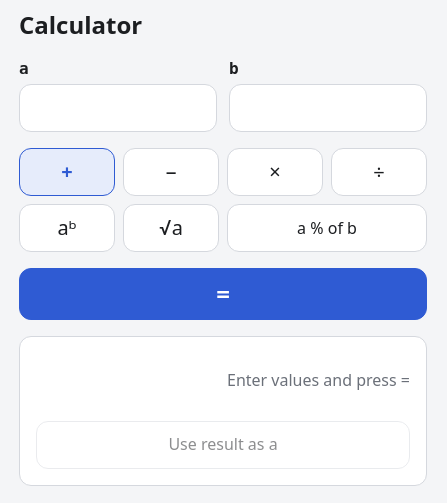
Test case: Calculator › clears the result when a is edited
The image size is (447, 503).
Type "10" into the field labelled "a" at (118,108), box [19,84,217,132]
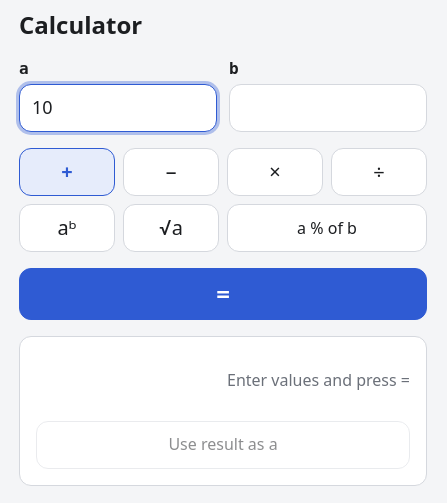
Type "4" into the field labelled "b" at (328,108), box [229,84,427,132]
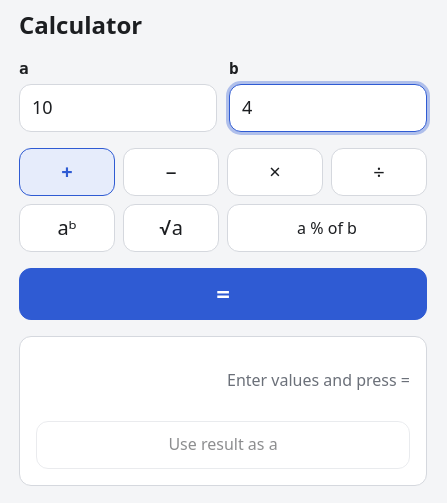
Click the button named "Divide" at (379,172), box [331,148,427,196]
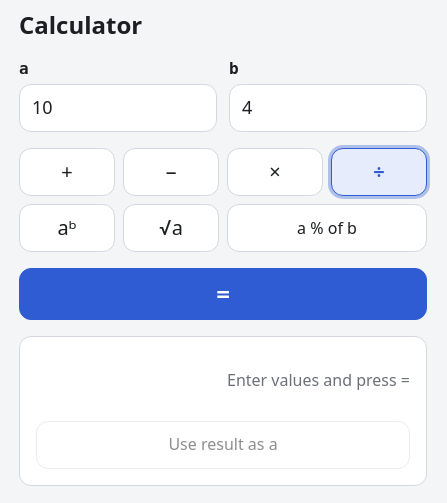
Click the button "=" at (223,294), box [19,268,427,320]
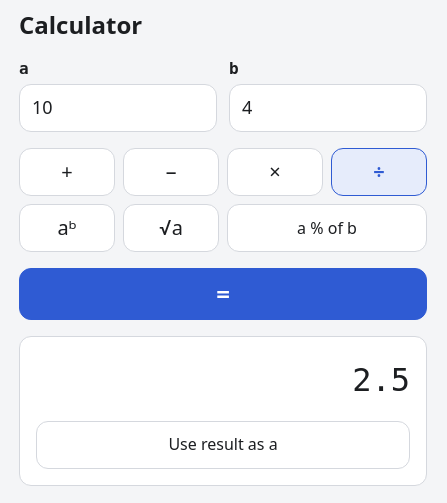
Check: the text "2.5" is shown, box [352,358,410,403]
Type "1" into the field labelled "a" at (118,108), box [19,84,217,132]
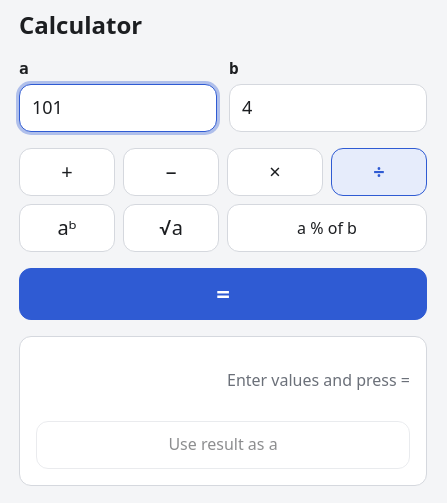
Check: the text "2.5" is gone
Check: the button "Use result as a" is disabled, box [36,421,410,469]
